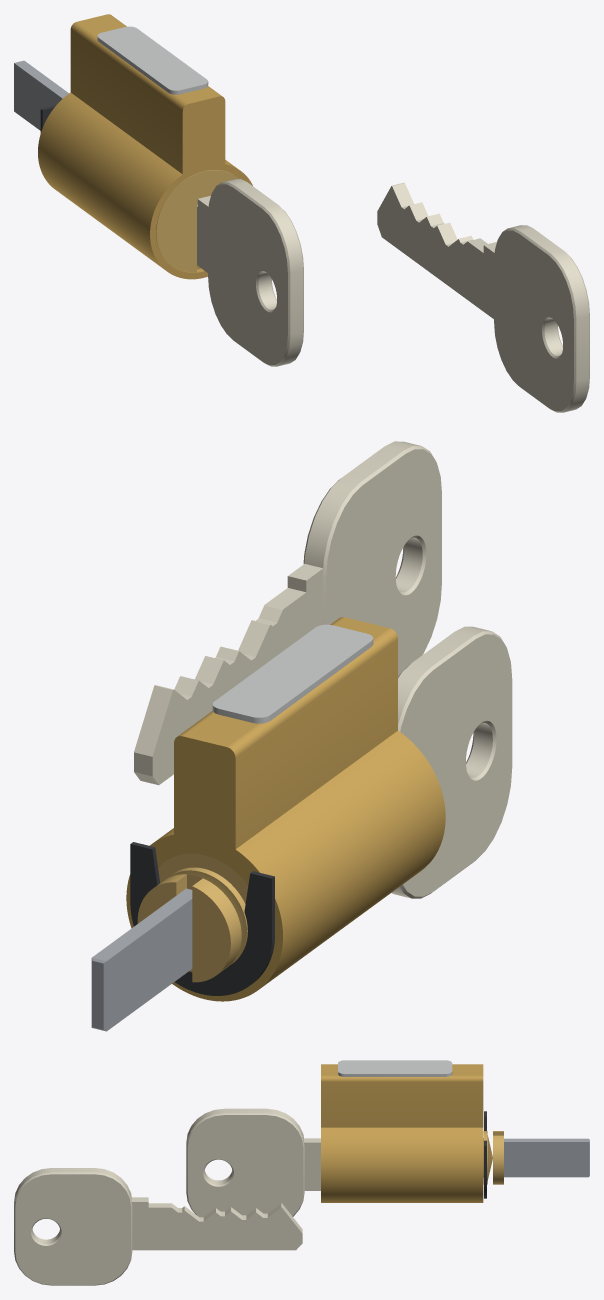
The model's file is door-lock.glb.
3 renders of one model, top to bottom at view 1: azimuth 30°, elevation 25°; view 2: azimuth 150°, elevation 25°; view 3: azimuth 270°, elevation 25°, orthographic. The views are drawn at different scales.
Parts seen in each view (by area): view 1: shell, wrong_key, key, plug, spring_cover, tailpiece; view 2: shell, wrong_key, key, tailpiece, plug, spring_cover, retaining_clip; view 3: shell, wrong_key, key, tailpiece, spring_cover, plug.
Boxes of the visible parts, left/top/right/bottom form: shell: left=38, top=14, right=252, bottom=279; wrong_key: left=377, top=182, right=589, bottom=412; key: left=197, top=179, right=303, bottom=366; plug: left=156, top=170, right=238, bottom=272; spring_cover: left=97, top=26, right=208, bottom=94; tailpiece: left=14, top=60, right=68, bottom=130; shell: left=126, top=617, right=445, bottom=1001; wrong_key: left=134, top=441, right=441, bottom=785; key: left=391, top=626, right=512, bottom=898; tailpiece: left=91, top=888, right=192, bottom=1031; plug: left=137, top=853, right=248, bottom=982; spring_cover: left=212, top=624, right=373, bottom=723; retaining_clip: left=130, top=842, right=274, bottom=995; shell: left=321, top=1064, right=483, bottom=1202; wrong_key: left=14, top=1168, right=302, bottom=1285; key: left=186, top=1108, right=320, bottom=1217; tailpiece: left=504, top=1138, right=589, bottom=1177; spring_cover: left=338, top=1060, right=452, bottom=1076; plug: left=483, top=1131, right=503, bottom=1184.
Bounding box in the file's own units: 0.0356 × 0.0322 × 0.107.
